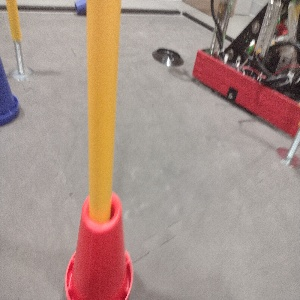Blue_1: (0, 54, 21, 126), (72, 0, 88, 17)
Red_1: (59, 187, 135, 299)
